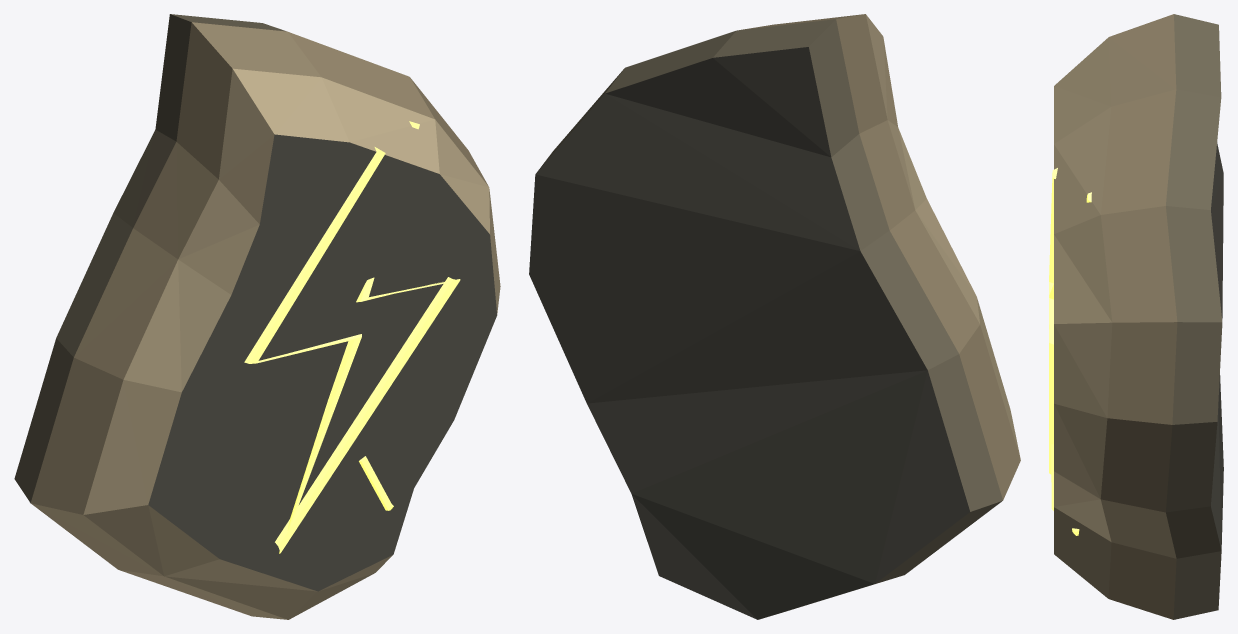
File: FERNSTONE_SPARK.hi.glb
3 views of the same model, side by side, from view 1: azimuth 30°, elevation 25°; view 2: azimuth 150°, elevation 25°; view 3: azimuth 270°, elevation 25° (orthographic). The views are drawn at different scales.
Parts seen in each view (by area): view 1: Body_Mesh; view 2: Body_Mesh; view 3: Body_Mesh.
Boxes of the visible parts, x1=… form: Body_Mesh: x1=14, y1=14, x2=500, y2=619; Body_Mesh: x1=529, y1=14, x2=1020, y2=619; Body_Mesh: x1=1049, y1=14, x2=1223, y2=619.
Bounding box in the file's own units: 0.2886 × 0.3697 × 0.1048.
Materials: 1 (1 with a texture image).
